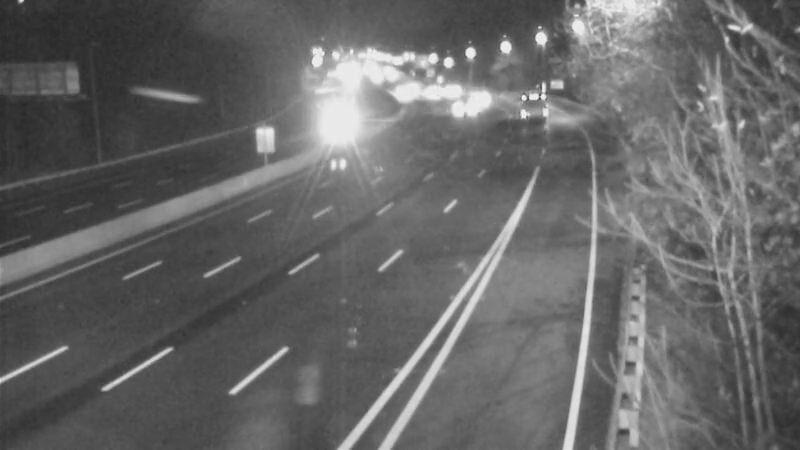vehicle: (449, 72, 499, 122), (510, 75, 560, 125), (438, 84, 488, 134), (313, 100, 363, 150)
